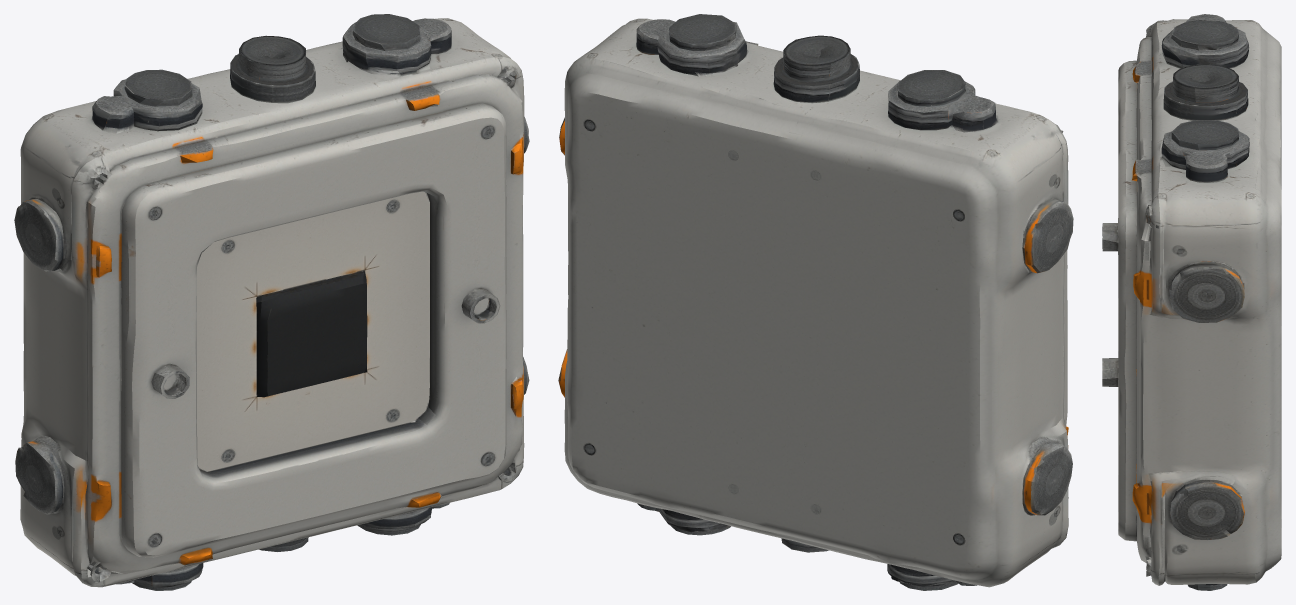
File: logic_box.gltf
3 views of the same model, side by side, from view 1: azimuth 30°, elevation 25°; view 2: azimuth 150°, elevation 25°; view 3: azimuth 270°, elevation 25° (orthographic). The views are drawn at different scales.
Parts seen in each view (by area): view 1: Body; view 2: Body; view 3: Body.
Part boxes in pixels (<box>): Body: <box>14,14,529,590</box>; Body: <box>558,14,1073,590</box>; Body: <box>1102,14,1281,590</box>.
Bounding box in the file's own units: 0.44 × 0.44 × 0.16.
Materials: 1 (1 with a texture image).
